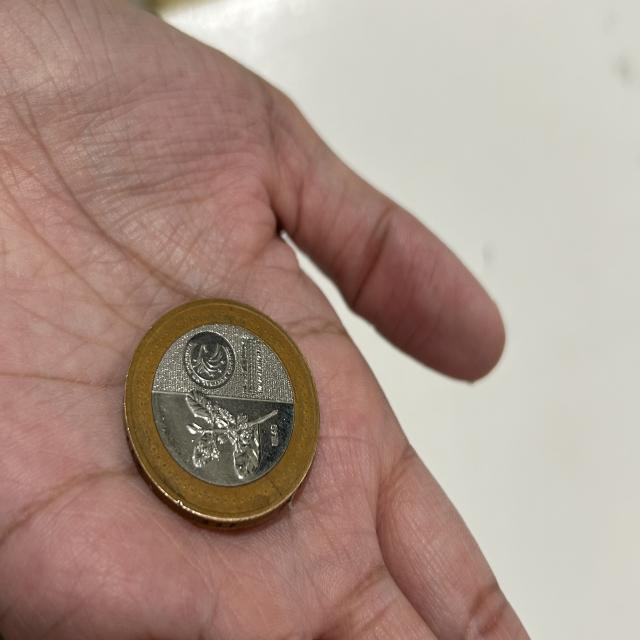20_New_Back: (174, 384, 284, 480)
